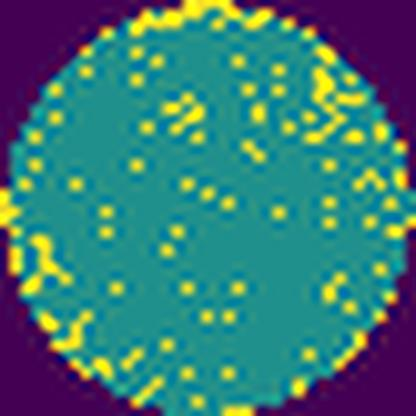Edge-Loc: (123, 0, 276, 35), (16, 228, 78, 303)
